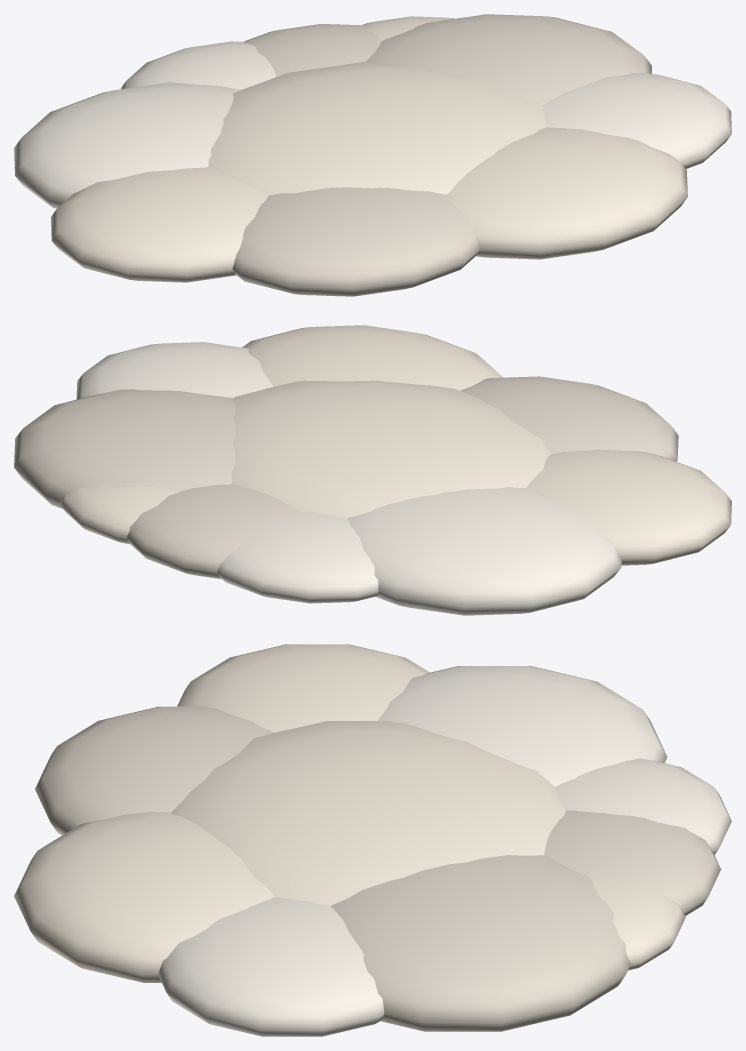
The model's file is cozy_path_stone_A.glb.
The picture shows the model from 3 angles, top to bottom: view 1: azimuth 30°, elevation 25°; view 2: azimuth 150°, elevation 25°; view 3: azimuth 270°, elevation 25°; orthographic projection. The views are drawn at different scales.
Visible parts, largest first — view 1: S0, S3, S4, S6, S2, S1, S5, S8, S7, S9; view 2: S0, S2, S1, S6, S3, S4, S8, S7, S5, S9; view 3: S0, S1, S3, S5, S2, S4, S6, S7, S8, S9.
Boxes of the visible parts, x1,y1,x2,y2 form: S0: [208, 61, 546, 195]; S3: [446, 127, 687, 259]; S4: [232, 187, 479, 296]; S6: [50, 167, 268, 282]; S2: [14, 82, 240, 208]; S1: [366, 14, 651, 104]; S5: [542, 73, 731, 168]; S8: [120, 41, 276, 89]; S7: [243, 24, 380, 76]; S9: [362, 16, 454, 41]; S0: [231, 380, 550, 518]; S2: [347, 487, 621, 615]; S1: [14, 389, 236, 508]; S6: [526, 449, 731, 565]; S3: [242, 325, 502, 390]; S4: [460, 376, 678, 461]; S8: [217, 512, 378, 603]; S7: [126, 484, 302, 579]; S5: [76, 342, 273, 399]; S9: [60, 485, 180, 544]; S0: [171, 721, 565, 905]; S1: [330, 855, 630, 1031]; S3: [14, 812, 274, 982]; S5: [158, 897, 384, 1036]; S2: [378, 666, 667, 786]; S4: [35, 706, 273, 835]; S6: [177, 644, 429, 732]; S7: [544, 810, 720, 915]; S8: [555, 758, 731, 854]; S9: [588, 876, 685, 970].
Size of the model in its own units: 1.41 by 0.196 by 1.13.
